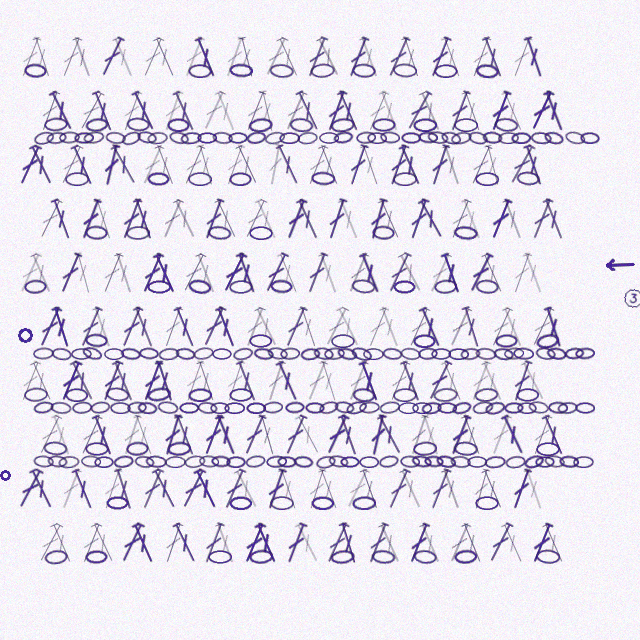chain: (535, 332, 560, 350), (146, 386, 172, 403), (187, 278, 212, 295), (351, 278, 376, 295), (105, 386, 130, 403), (120, 129, 143, 147), (350, 345, 373, 363), (269, 63, 294, 79), (248, 117, 273, 133), (289, 117, 314, 133), (330, 117, 355, 133), (494, 117, 519, 133), (207, 225, 232, 241), (453, 225, 478, 241), (433, 387, 458, 403), (474, 387, 499, 403), (330, 549, 355, 565), (371, 549, 396, 565), (345, 399, 368, 416), (475, 63, 499, 79), (85, 117, 109, 133), (352, 387, 376, 403), (44, 549, 68, 565), (413, 549, 437, 565), (310, 63, 335, 78), (43, 441, 68, 456), (453, 441, 478, 456), (81, 345, 103, 362), (318, 399, 340, 416), (523, 453, 545, 470), (450, 130, 473, 146), (229, 63, 253, 78), (352, 63, 376, 78), (393, 63, 417, 78), (44, 117, 68, 132), (126, 117, 150, 132), (311, 171, 335, 186), (516, 171, 540, 186), (475, 279, 499, 294), (24, 387, 48, 402), (167, 441, 191, 456), (413, 441, 437, 456), (249, 549, 273, 564), (536, 549, 560, 564), (33, 130, 55, 146), (168, 130, 190, 146), (264, 130, 286, 146), (440, 130, 462, 146), (467, 130, 489, 146), (543, 130, 565, 146), (564, 130, 586, 146), (232, 346, 254, 362), (336, 346, 358, 362), (451, 400, 473, 416), (484, 400, 506, 416), (315, 454, 337, 470), (24, 63, 47, 78), (85, 225, 108, 240), (372, 225, 395, 240), (24, 279, 47, 294), (270, 279, 293, 294), (434, 279, 457, 294), (85, 333, 108, 348), (126, 441, 149, 456), (454, 549, 477, 564), (188, 64, 212, 78), (434, 64, 458, 78), (372, 118, 396, 132), (413, 118, 437, 132), (454, 118, 478, 132), (65, 172, 89, 186), (188, 172, 212, 186), (393, 172, 417, 186), (475, 172, 499, 186), (126, 226, 150, 240), (249, 226, 273, 240), (147, 280, 171, 294), (229, 280, 253, 294), (331, 334, 355, 348), (188, 388, 212, 402), (229, 388, 253, 402), (393, 388, 417, 402), (85, 442, 109, 456), (536, 442, 560, 456), (270, 496, 294, 510), (352, 496, 376, 510), (475, 496, 499, 510), (208, 550, 232, 564), (83, 130, 105, 145), (136, 130, 158, 145), (427, 130, 449, 145), (157, 400, 179, 415), (379, 400, 401, 415), (472, 400, 494, 415), (184, 454, 206, 469), (378, 454, 400, 469), (435, 454, 457, 469), (167, 118, 190, 132), (147, 172, 170, 186), (229, 172, 252, 186), (393, 280, 416, 294), (249, 334, 272, 348), (413, 334, 436, 348), (495, 334, 518, 348), (65, 388, 88, 402), (516, 388, 539, 402), (106, 496, 129, 510), (229, 496, 252, 510), (311, 496, 334, 510), (85, 550, 108, 564), (246, 130, 267, 145), (333, 130, 354, 145), (193, 346, 214, 361), (267, 346, 288, 361), (313, 346, 334, 361), (535, 346, 556, 361), (546, 346, 567, 361), (33, 400, 54, 415), (90, 400, 111, 415), (334, 400, 355, 415), (528, 400, 549, 415), (113, 454, 134, 469), (245, 454, 266, 469), (328, 454, 349, 469), (411, 454, 432, 469), (544, 454, 565, 469), (180, 131, 202, 145), (530, 131, 552, 145), (158, 347, 180, 361), (475, 347, 497, 361), (50, 401, 72, 415), (58, 455, 80, 469), (484, 455, 506, 469), (46, 131, 67, 145), (105, 131, 126, 145), (147, 131, 168, 145), (212, 131, 233, 145), (297, 131, 318, 145), (51, 347, 72, 361), (120, 347, 141, 361), (175, 347, 196, 361), (253, 347, 274, 361), (300, 347, 321, 361), (382, 347, 403, 361), (400, 347, 421, 361), (460, 347, 481, 361), (493, 347, 514, 361), (137, 401, 158, 415), (197, 401, 218, 415), (421, 401, 442, 415), (557, 401, 578, 415), (134, 455, 155, 469), (293, 455, 314, 469), (450, 455, 471, 469), (505, 455, 526, 469), (145, 455, 167, 468), (59, 131, 80, 144), (482, 131, 503, 144), (33, 347, 54, 360), (324, 347, 345, 360), (513, 347, 534, 360), (564, 347, 585, 360), (359, 401, 380, 414), (33, 455, 54, 468), (47, 455, 68, 468), (266, 455, 287, 468), (356, 131, 376, 144), (380, 131, 400, 144), (418, 131, 438, 144), (139, 347, 159, 360), (280, 347, 300, 360), (418, 347, 438, 360), (504, 347, 524, 360), (575, 347, 595, 360), (72, 401, 92, 414), (127, 401, 147, 414), (263, 401, 283, 414), (285, 401, 305, 414), (548, 401, 568, 414), (81, 455, 101, 468), (199, 455, 219, 468), (211, 455, 231, 468), (400, 455, 420, 468), (424, 455, 444, 468), (559, 455, 579, 468), (279, 132, 300, 144), (498, 132, 519, 144), (71, 348, 92, 360), (363, 348, 384, 360), (448, 348, 469, 360), (110, 402, 131, 414), (224, 402, 245, 414), (398, 402, 419, 414), (165, 456, 186, 468), (573, 456, 594, 468), (74, 132, 94, 144), (197, 132, 217, 144), (228, 132, 248, 144), (319, 132, 339, 144), (367, 132, 387, 144), (401, 132, 421, 144), (511, 132, 531, 144), (580, 132, 600, 144), (104, 348, 124, 360), (212, 348, 232, 360), (431, 348, 451, 360), (179, 402, 199, 414), (210, 402, 230, 414), (246, 402, 266, 414), (305, 402, 325, 414), (412, 402, 432, 414), (437, 402, 457, 414), (504, 402, 524, 414), (517, 402, 537, 414), (575, 402, 595, 414), (94, 456, 114, 468), (226, 456, 246, 468), (277, 456, 297, 468), (340, 456, 360, 468), (359, 456, 379, 468), (467, 456, 487, 468), (535, 456, 555, 468)
double: (75, 89, 107, 132), (403, 89, 435, 132), (108, 143, 140, 186), (506, 143, 538, 186), (415, 197, 447, 240), (292, 413, 324, 456), (374, 413, 406, 456), (14, 467, 46, 510), (34, 521, 66, 564), (313, 35, 344, 78), (46, 89, 77, 132), (26, 143, 57, 186), (178, 251, 209, 294), (219, 251, 250, 294), (395, 251, 426, 294), (465, 251, 496, 294), (251, 305, 282, 348), (321, 305, 352, 348), (333, 305, 364, 348), (67, 359, 98, 402), (424, 359, 455, 402), (518, 359, 549, 402), (34, 413, 65, 456), (26, 467, 57, 510), (149, 467, 180, 510), (178, 467, 209, 510), (231, 467, 262, 510), (342, 467, 373, 510), (292, 521, 323, 564), (485, 521, 516, 564), (273, 35, 303, 79), (15, 143, 45, 187), (293, 197, 323, 241), (15, 251, 45, 295), (150, 251, 180, 295), (425, 251, 455, 295), (35, 305, 65, 349), (445, 305, 475, 349), (486, 305, 516, 349), (322, 521, 352, 565), (375, 521, 405, 565), (97, 35, 127, 78), (261, 35, 291, 78), (129, 89, 159, 132), (199, 89, 229, 132), (293, 89, 323, 132), (527, 89, 557, 132), (56, 143, 86, 186), (232, 143, 262, 186), (273, 143, 303, 186), (35, 197, 65, 240), (170, 197, 200, 240), (211, 197, 241, 240), (240, 197, 270, 240), (261, 251, 291, 294), (384, 251, 414, 294), (199, 305, 229, 348), (527, 305, 557, 348), (322, 413, 352, 456), (498, 413, 528, 456), (191, 467, 221, 510), (396, 467, 426, 510), (88, 521, 118, 564), (117, 521, 147, 564), (170, 521, 200, 564), (109, 35, 138, 79), (138, 35, 167, 79), (150, 35, 179, 79), (384, 35, 413, 79), (170, 89, 199, 133), (281, 89, 310, 133), (334, 89, 363, 133), (363, 89, 392, 133), (416, 89, 445, 133), (498, 89, 527, 133), (68, 143, 97, 187), (138, 143, 167, 187), (179, 143, 208, 187), (396, 143, 425, 187), (466, 143, 495, 187), (158, 197, 187, 241), (252, 197, 281, 241), (375, 197, 404, 241), (27, 251, 56, 295), (56, 251, 85, 295), (138, 251, 167, 295), (478, 251, 507, 295), (76, 305, 105, 349), (117, 305, 146, 349), (281, 305, 310, 349), (363, 305, 392, 349), (404, 305, 433, 349), (416, 305, 445, 349), (27, 359, 56, 403), (109, 359, 138, 403), (273, 359, 302, 403), (478, 359, 507, 403), (76, 413, 105, 457), (240, 413, 269, 457), (281, 413, 310, 457), (539, 413, 568, 457), (138, 467, 167, 511), (220, 467, 249, 511), (384, 467, 413, 511), (478, 467, 507, 511), (47, 521, 76, 565), (129, 521, 158, 565), (240, 521, 269, 565), (252, 521, 281, 565), (416, 521, 445, 565), (445, 521, 474, 565), (498, 521, 527, 565), (539, 521, 568, 565), (16, 35, 44, 79), (57, 35, 85, 79), (180, 35, 208, 79), (192, 35, 220, 79), (303, 35, 331, 79), (344, 35, 372, 79), (426, 35, 454, 79), (479, 35, 507, 79), (89, 89, 117, 133), (212, 89, 240, 133), (241, 89, 269, 133), (540, 89, 568, 133), (151, 143, 179, 187), (303, 143, 331, 187), (315, 143, 343, 187), (282, 197, 310, 241), (335, 197, 363, 241), (446, 197, 474, 241), (458, 197, 486, 241), (487, 197, 515, 241), (499, 197, 527, 241), (528, 197, 556, 241), (540, 197, 568, 241), (98, 251, 126, 295), (192, 251, 220, 295), (274, 251, 302, 295), (303, 251, 331, 295), (344, 251, 372, 295), (356, 251, 384, 295), (130, 305, 158, 349), (171, 305, 199, 349), (212, 305, 240, 349), (241, 305, 269, 349), (376, 305, 404, 349), (499, 305, 527, 349), (16, 359, 44, 403), (57, 359, 85, 403), (98, 359, 126, 403), (233, 359, 261, 403), (303, 359, 331, 403), (344, 359, 372, 403), (385, 359, 413, 403), (397, 359, 425, 403), (438, 359, 466, 403), (89, 413, 117, 457), (171, 413, 199, 457), (212, 413, 240, 457), (446, 413, 474, 457), (487, 413, 515, 457), (57, 467, 85, 511), (69, 467, 97, 511), (426, 467, 454, 511), (77, 521, 105, 565), (282, 521, 310, 565), (364, 521, 392, 565), (405, 521, 433, 565), (458, 521, 486, 565), (528, 521, 556, 565), (69, 35, 96, 79), (221, 35, 248, 79), (356, 35, 383, 79), (438, 35, 465, 79), (467, 35, 494, 79), (508, 35, 535, 79), (36, 89, 63, 133), (118, 89, 145, 133), (323, 89, 350, 133), (376, 89, 403, 133), (446, 89, 473, 133), (487, 89, 514, 133), (221, 143, 248, 187), (385, 143, 412, 187), (520, 143, 547, 187), (48, 197, 75, 241), (77, 197, 104, 241), (118, 197, 145, 241), (130, 197, 157, 241), (200, 197, 227, 241), (233, 251, 260, 295), (315, 251, 342, 295), (438, 251, 465, 295), (508, 251, 535, 295), (520, 251, 547, 295), (89, 305, 116, 349), (159, 305, 186, 349), (139, 359, 166, 403), (356, 359, 383, 403), (467, 359, 494, 403), (48, 413, 75, 457), (130, 413, 157, 457), (200, 413, 227, 457), (335, 413, 362, 457), (458, 413, 485, 457), (528, 413, 555, 457), (315, 467, 342, 511), (356, 467, 383, 511), (438, 467, 465, 511), (508, 467, 535, 511), (200, 521, 227, 565), (212, 521, 239, 565), (29, 35, 55, 79), (398, 35, 424, 79), (521, 35, 547, 79), (160, 89, 186, 133), (459, 89, 485, 133), (345, 143, 371, 187), (357, 143, 383, 187), (427, 143, 453, 187), (439, 143, 465, 187), (90, 197, 116, 241), (324, 197, 350, 241), (406, 197, 432, 241), (111, 251, 137, 295), (295, 305, 321, 349), (152, 359, 178, 403), (181, 359, 207, 403), (193, 359, 219, 403), (222, 359, 248, 403), (263, 359, 289, 403), (509, 359, 535, 403), (119, 413, 145, 457), (406, 413, 432, 457), (418, 413, 444, 457), (99, 467, 125, 511), (111, 467, 137, 511), (263, 467, 289, 511), (275, 467, 301, 511), (521, 467, 547, 511), (160, 521, 186, 565), (193, 143, 218, 187), (49, 305, 74, 349), (459, 305, 484, 349), (541, 305, 566, 349), (316, 359, 341, 403), (160, 413, 185, 457), (304, 467, 329, 511), (336, 521, 361, 565), (366, 197, 390, 241), (71, 251, 95, 295), (255, 413, 279, 457), (469, 467, 493, 511), (235, 35, 258, 79), (100, 143, 123, 187), (481, 143, 504, 187), (256, 89, 278, 133), (367, 413, 389, 457), (265, 143, 286, 186)
noise: (621, 286, 640, 311), (603, 258, 635, 271), (16, 326, 34, 344), (0, 468, 12, 482)
